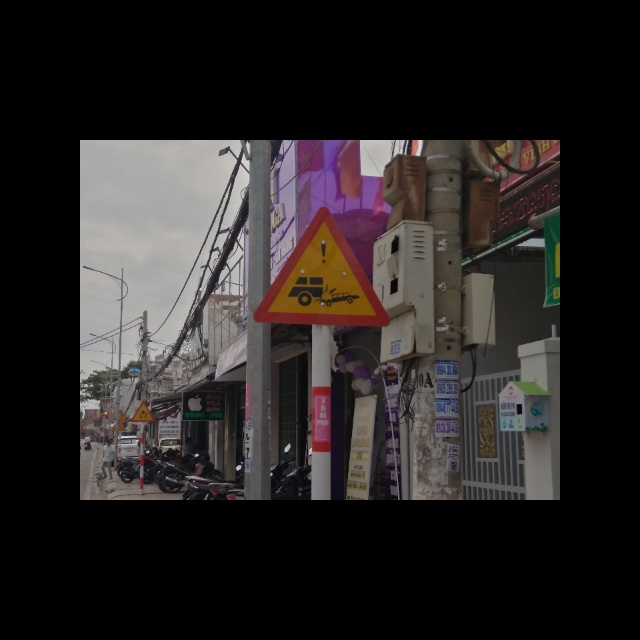Đoạn đường hay xảy ra tai nạn: (250, 208, 394, 330)
Đường đôi: (129, 398, 157, 423)
